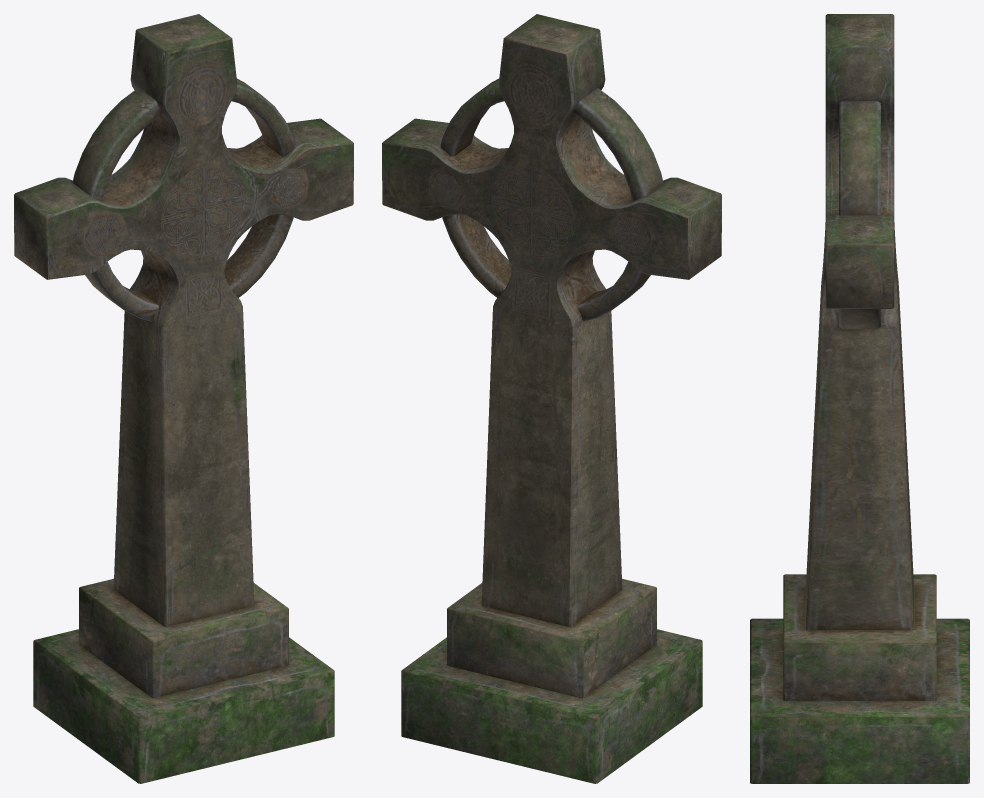
The model's file is cruz_grande.obj.
3 renders of one model, left to right at view 1: azimuth 30°, elevation 25°; view 2: azimuth 150°, elevation 25°; view 3: azimuth 270°, elevation 25°, orthographic. The views are drawn at different scales.
Parts seen in each view (by area): view 1: Mogila_tipB_Mogila_tipB_001; view 2: Mogila_tipB_Mogila_tipB_001; view 3: Mogila_tipB_Mogila_tipB_001.
Boxes of the visible parts, box(x1,y1,x2,y2) form: Mogila_tipB_Mogila_tipB_001: box(14, 14, 353, 783); Mogila_tipB_Mogila_tipB_001: box(382, 14, 721, 783); Mogila_tipB_Mogila_tipB_001: box(750, 14, 969, 783).
Bounding box in the file's own units: 23.41 × 49.93 × 14.1.
1 material, 1 textured.
